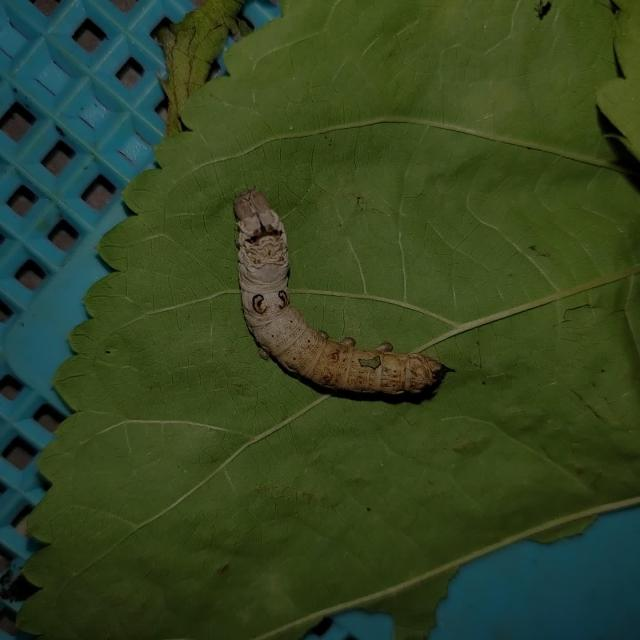Grasserie: (221, 179, 452, 408)
